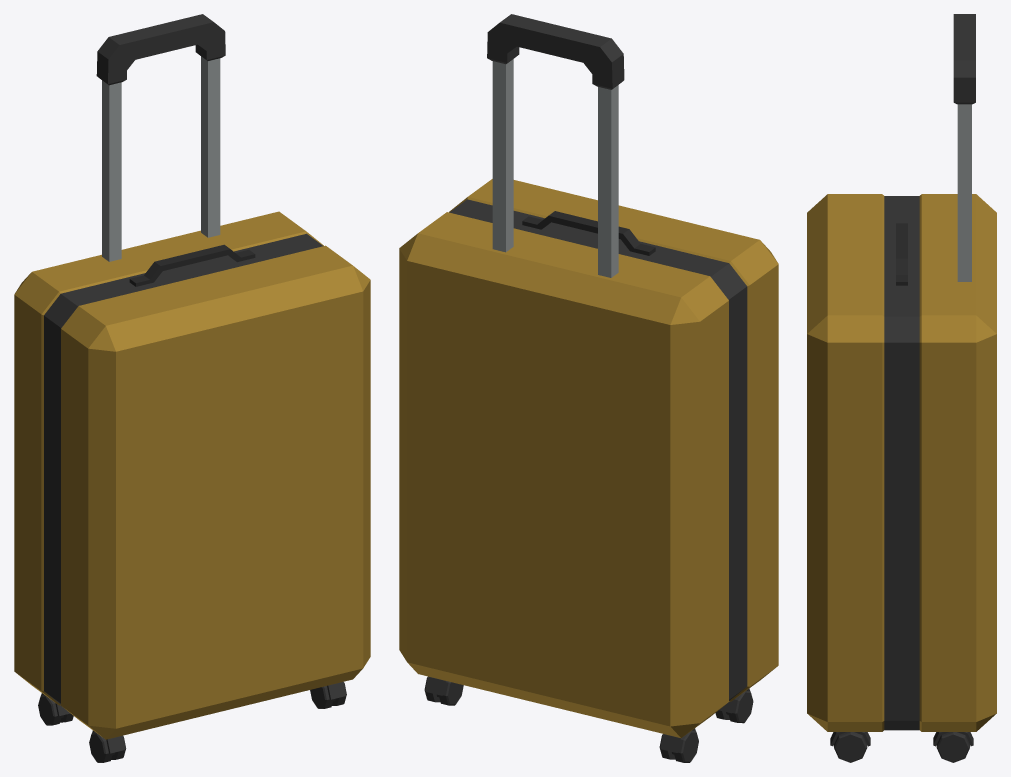
The model's file is SM_Props_Interior_Generic_Suitcase.fbx.
The picture shows the model from 3 angles, left to right: view 1: azimuth 30°, elevation 25°; view 2: azimuth 150°, elevation 25°; view 3: azimuth 270°, elevation 25°; orthographic projection. The views are drawn at different scales.
Parts seen in each view (by area): view 1: SM_Props_Interior_Generic_Suitcase; view 2: SM_Props_Interior_Generic_Suitcase; view 3: SM_Props_Interior_Generic_Suitcase.
Part boxes in pixels (x1,y1,x2,y2): SM_Props_Interior_Generic_Suitcase: [14, 14, 370, 762]; SM_Props_Interior_Generic_Suitcase: [399, 14, 778, 762]; SM_Props_Interior_Generic_Suitcase: [807, 14, 996, 762].
Size of the model in its own units: 51.2 by 115 by 29.6.
